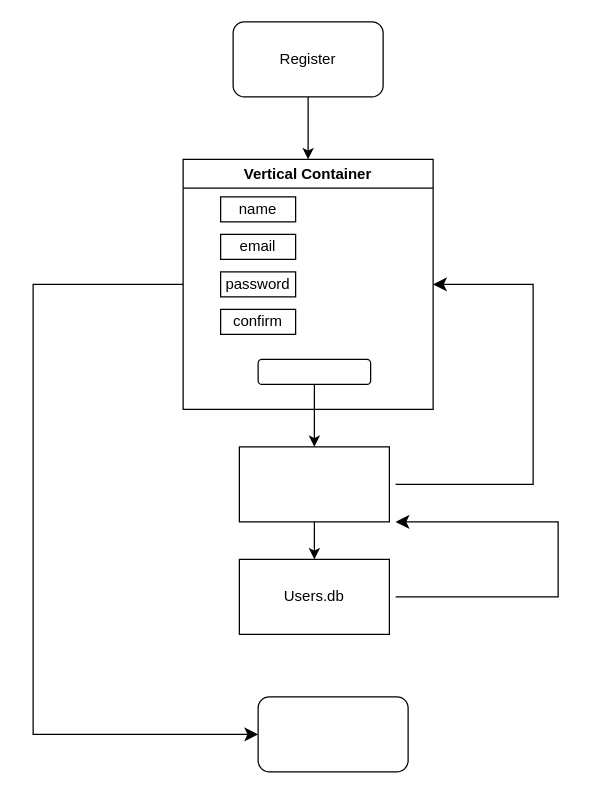
The diagram is 593 pixels wide and 794 high, and some of its shapes have lost their labels. The shapes that lost their labels are listed below. From the top down, each one's box as (x1, y1, x2, y2) in pixels, then its label:
(257, 358, 371, 384): submit
(238, 446, 389, 522): Register services
(257, 696, 408, 772): Login
